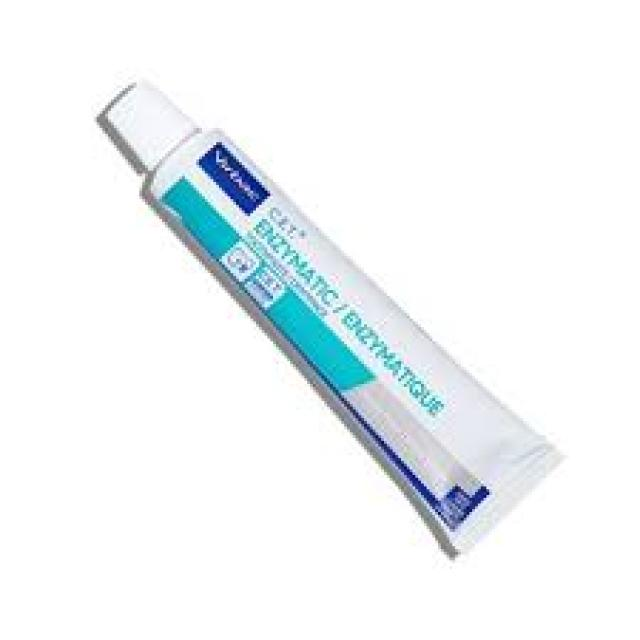toothpaste: (90, 56, 583, 568)
